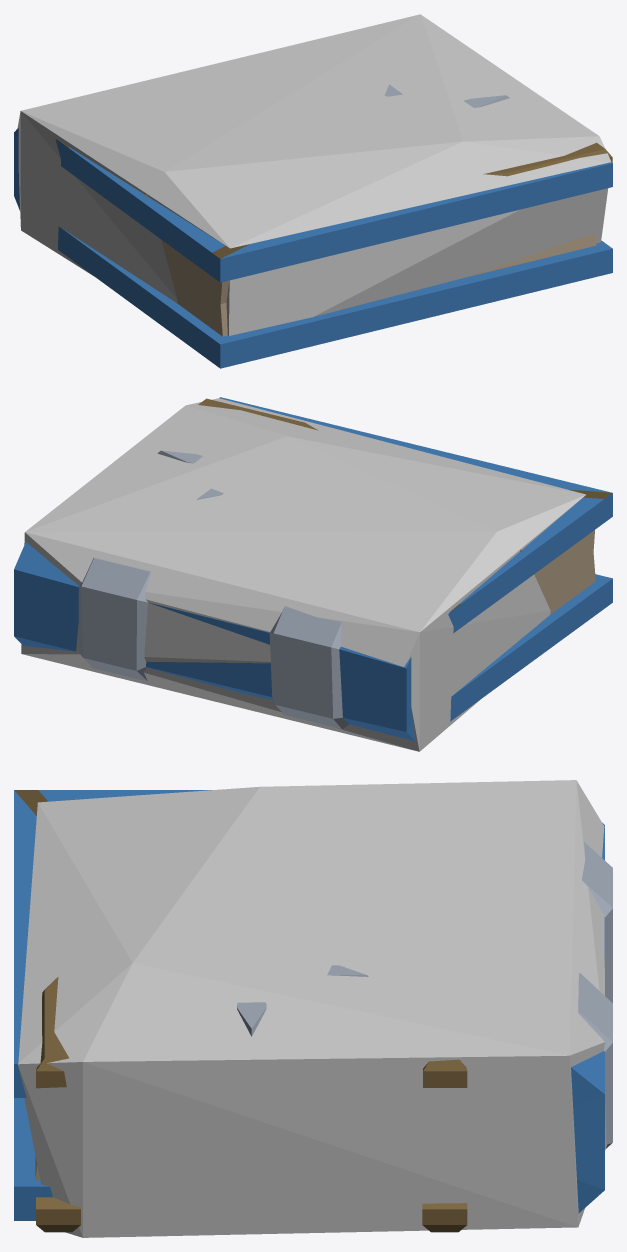
File: SM_Item_Spellbook_02.fbx
3 views of the same model, one above another, from view 1: azimuth 30°, elevation 25°; view 2: azimuth 150°, elevation 25°; view 3: azimuth 270°, elevation 25° (orthographic). The views are drawn at different scales.
Parts seen in each view (by area): view 1: SM_Item_Spellbook_02_ConvexHulls, SM_Item_Spellbook_02; view 2: SM_Item_Spellbook_02_ConvexHulls, SM_Item_Spellbook_02; view 3: SM_Item_Spellbook_02_ConvexHulls, SM_Item_Spellbook_02.
Boxes of the visible parts, x1,y1,x2,y2 form: SM_Item_Spellbook_02_ConvexHulls: [17, 14, 611, 335]; SM_Item_Spellbook_02: [14, 84, 612, 368]; SM_Item_Spellbook_02_ConvexHulls: [21, 398, 586, 751]; SM_Item_Spellbook_02: [14, 397, 612, 740]; SM_Item_Spellbook_02_ConvexHulls: [17, 780, 606, 1237]; SM_Item_Spellbook_02: [14, 790, 612, 1232].
Bounding box in the file's own units: 32.05 × 28.56 × 10.27.
2 materials, 1 textured.
